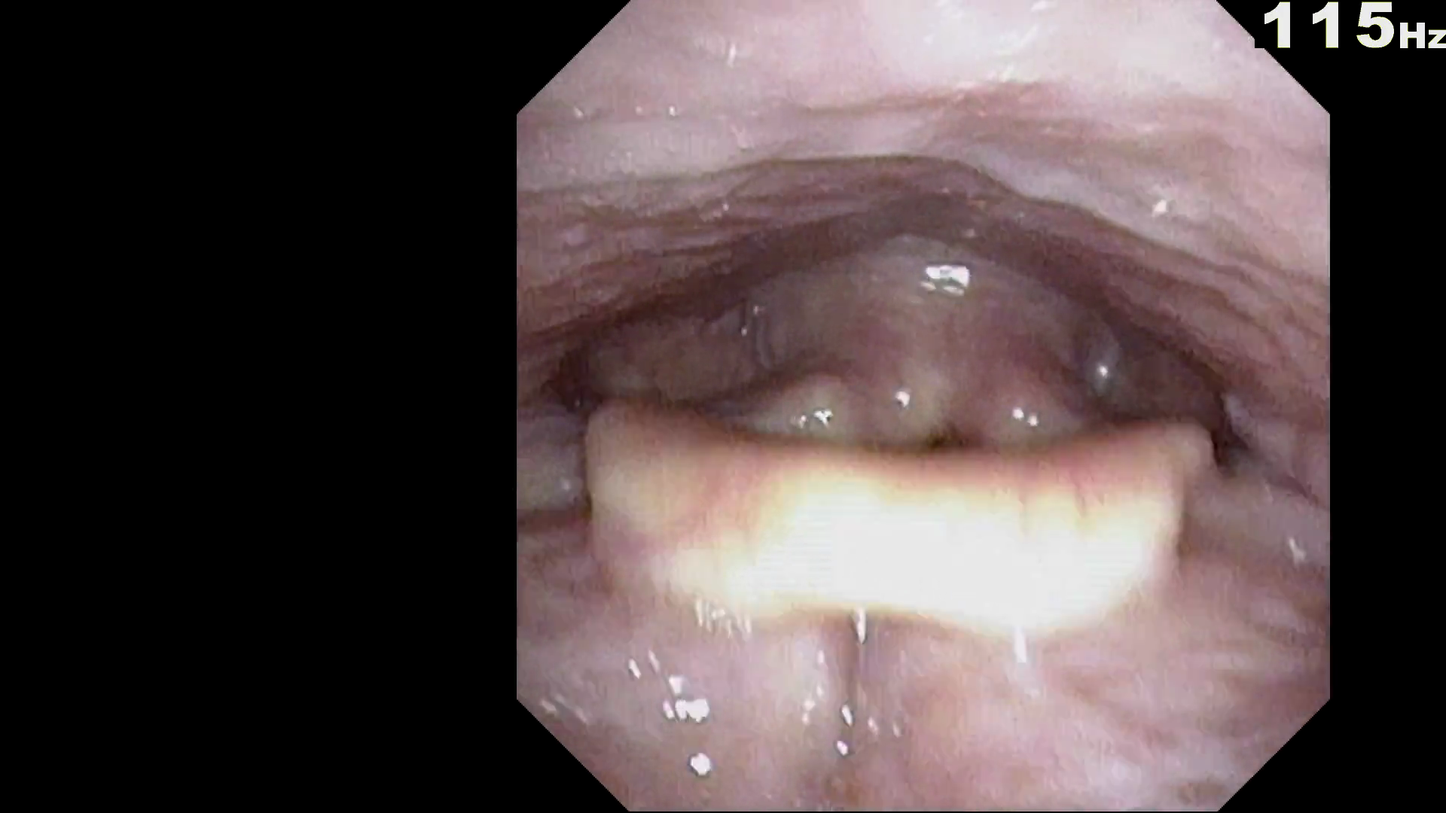epiglottis: (572, 337, 1248, 665)
trachea: (841, 349, 1014, 569)
